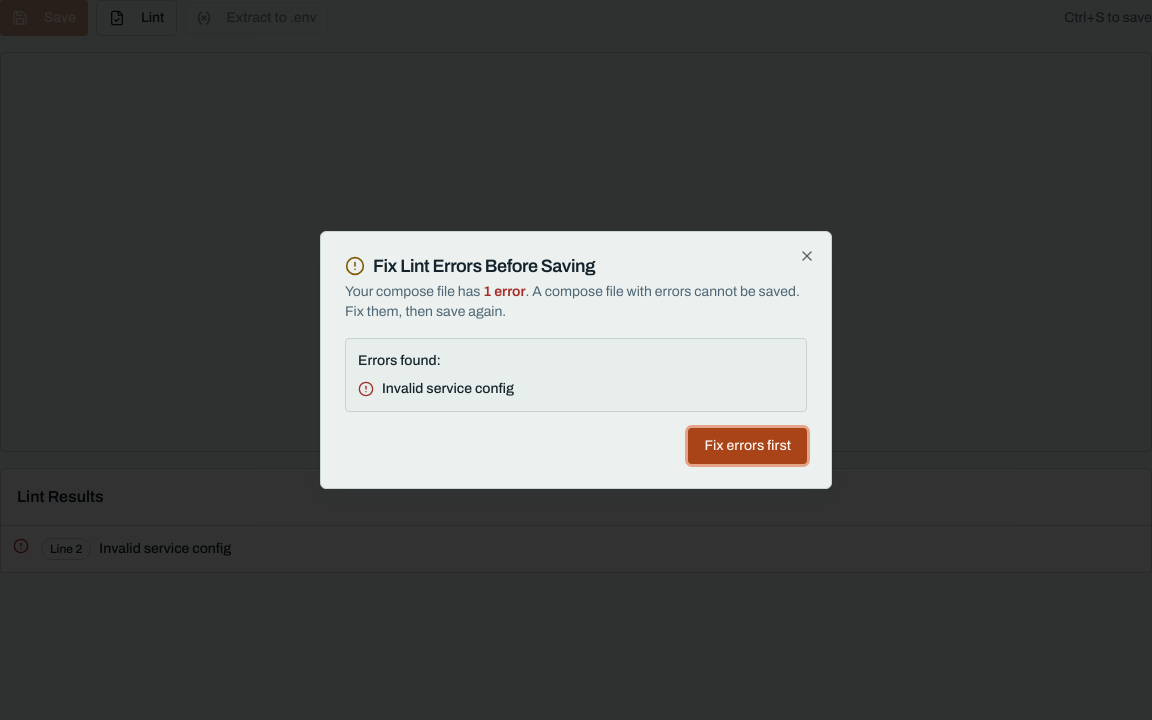
ComposeEditor — save/lint decision logic › "Fix errors first" closes the confirm dialog without saving
Expected: the heading "Fix Lint Errors Before Saving" is shown, 345,256 -> 595,276
Click the button "Fix errors first" at {"x": 748, "y": 446}, box 688,428 -> 807,464
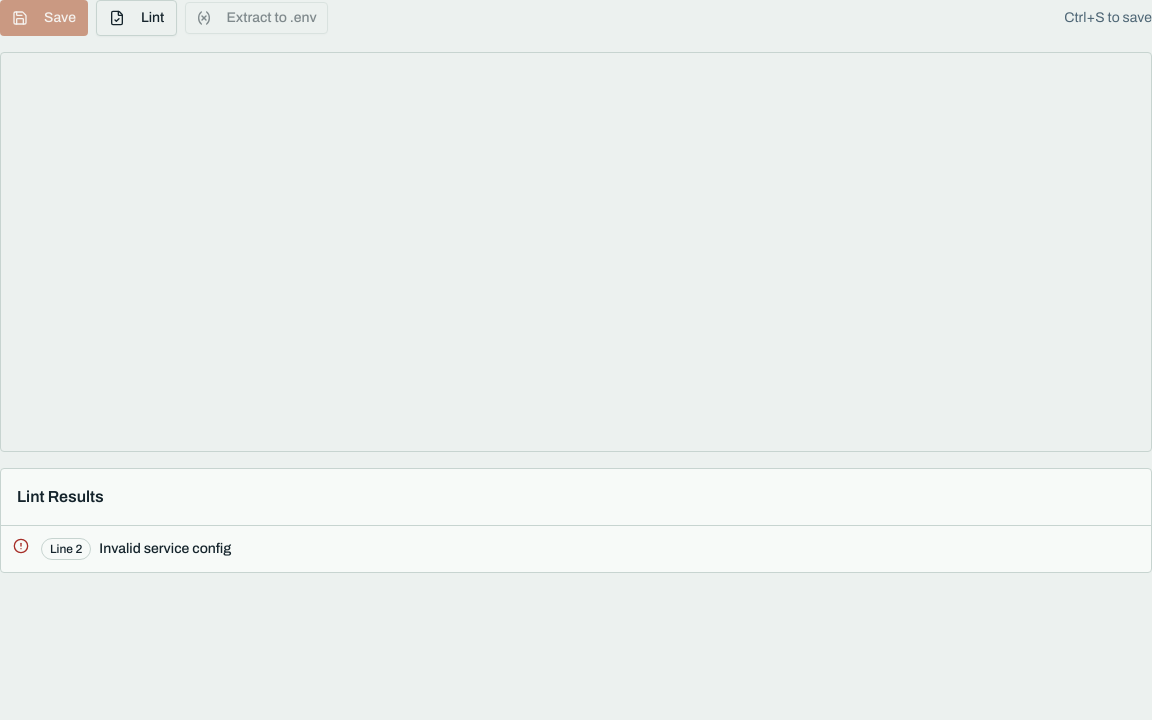
Now the heading "Fix Lint Errors Before Saving" is gone
